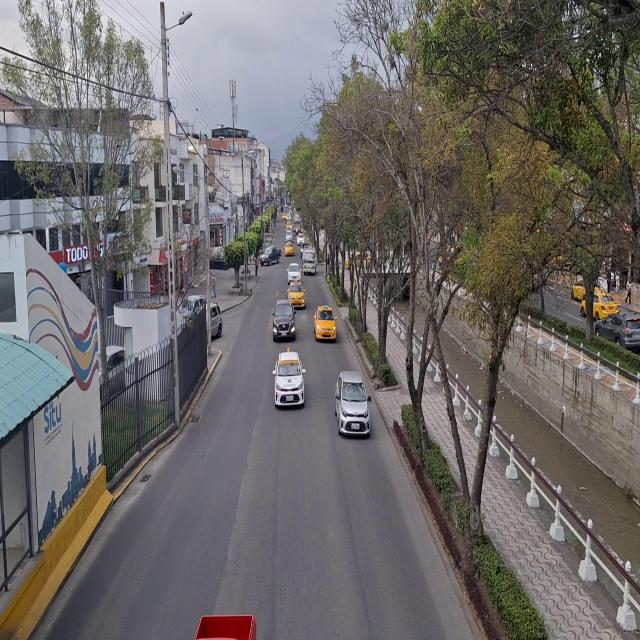SED: (336, 375, 369, 436), (274, 352, 304, 405), (315, 307, 336, 340)
SUV: (273, 300, 295, 340)
